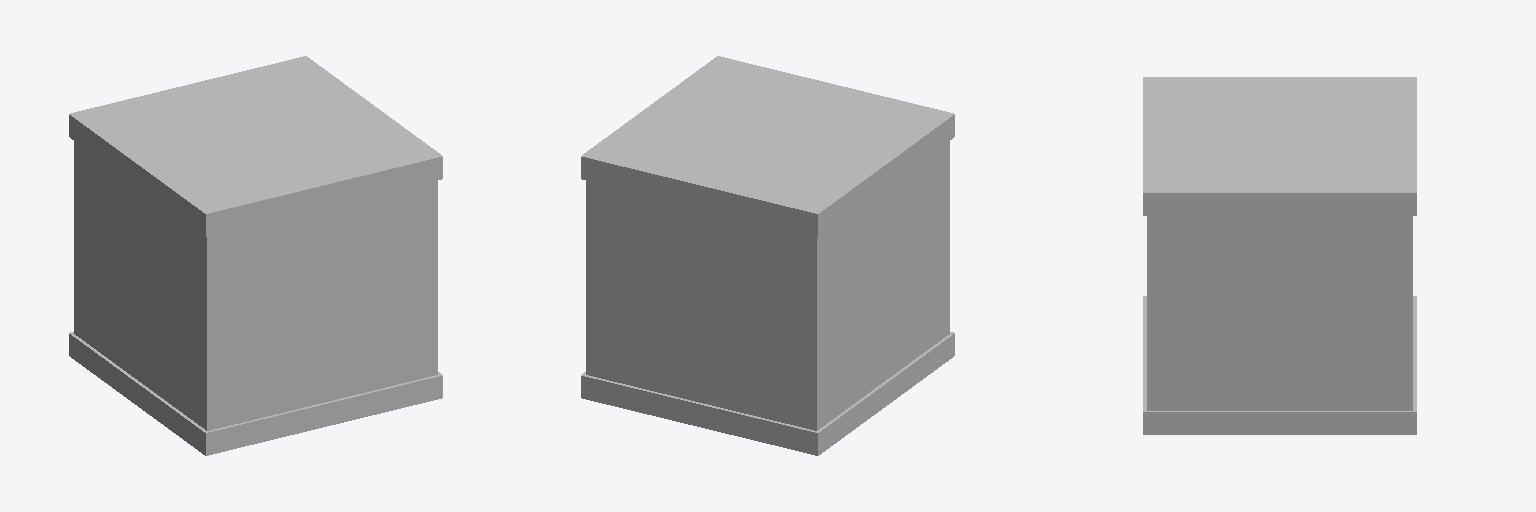
The model's file is crate_5.obj.
3 views of the same model, side by side, from view 1: azimuth 30°, elevation 25°; view 2: azimuth 150°, elevation 25°; view 3: azimuth 270°, elevation 25° (orthographic).
Visible parts, largest first — view 1: crate2_crate2_0; view 2: crate2_crate2_0; view 3: crate2_crate2_0.
Part boxes in pixels (x1,y1,x2,y2): crate2_crate2_0: (69, 56, 442, 455); crate2_crate2_0: (581, 56, 954, 455); crate2_crate2_0: (1143, 77, 1416, 434).
Bounding box in the file's own units: 0.8595 × 0.8359 × 0.8595.